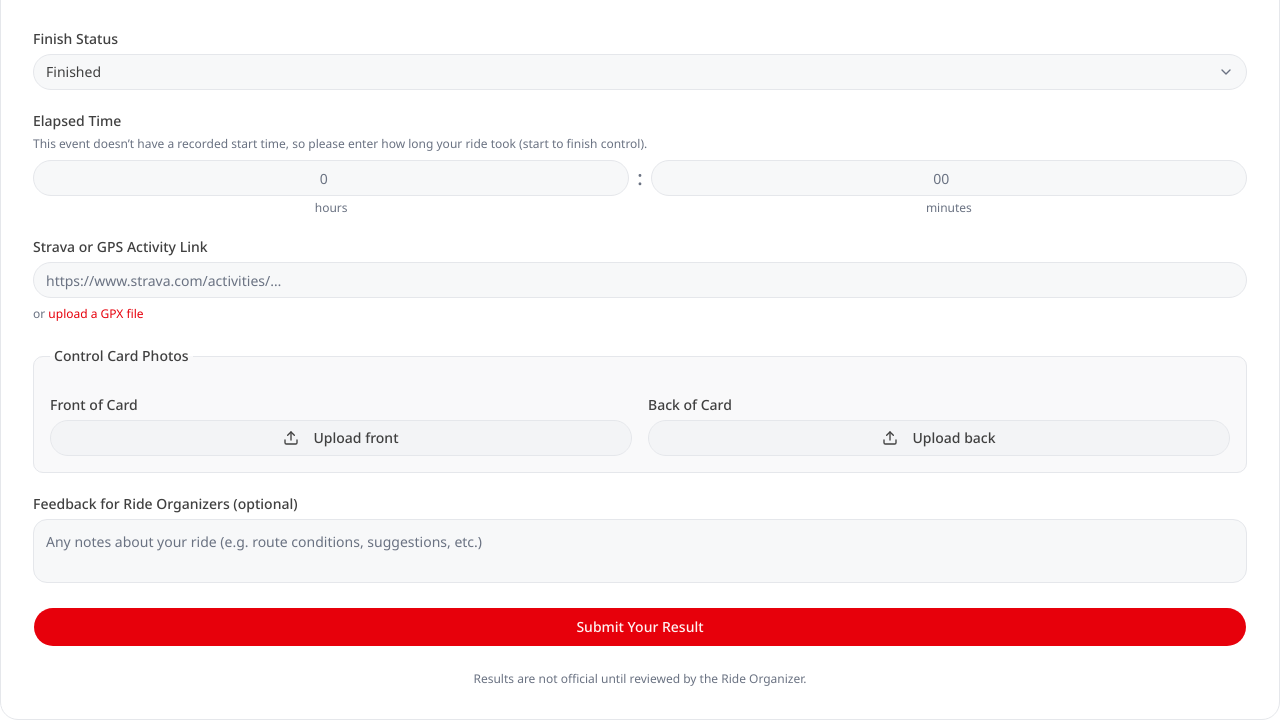
Test: ResultSubmissionForm › finish time validation › requires elapsed hours and minutes when the event has no start time
(page scrolled)
Click the button "Submit Your Result". click: [640, 627]
box: x1=33 y1=607 x2=1247 y2=647
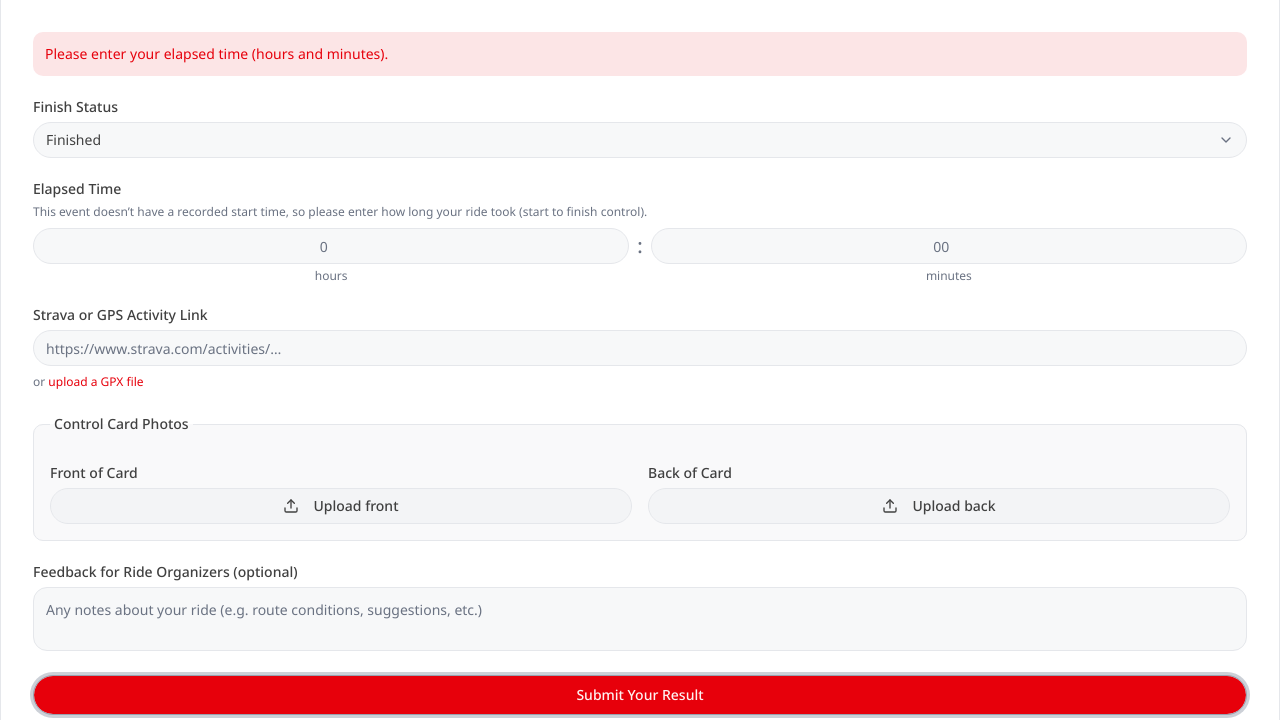
Result: the text "Please enter your elapsed time (hours and minutes)." is shown at x1=33 y1=32 x2=1247 y2=76
